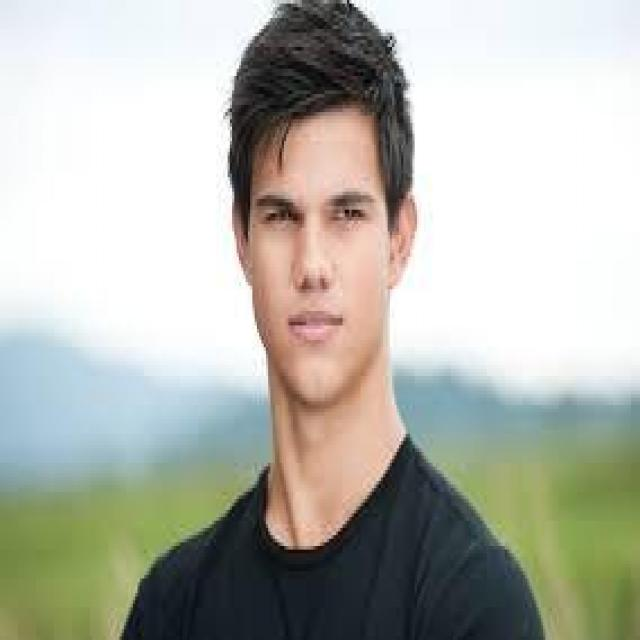person: (121, 0, 552, 636)
